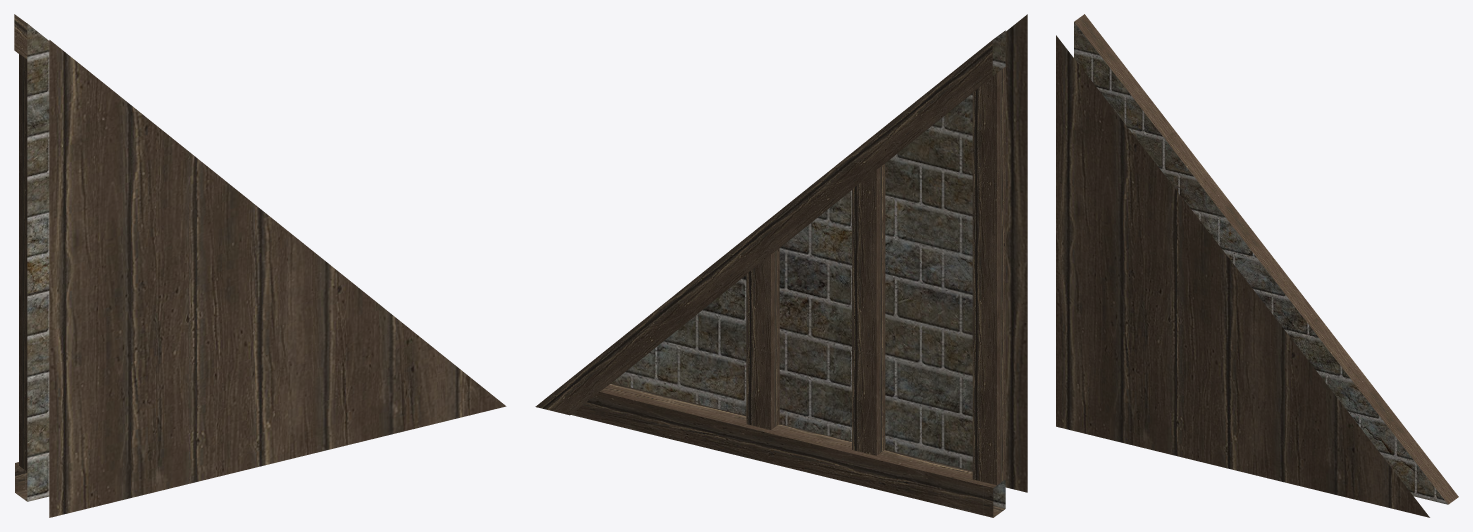
The model's file is ARC1010205.fbx.
3 views of the same model, side by side, from view 1: azimuth 30°, elevation 25°; view 2: azimuth 150°, elevation 25°; view 3: azimuth 330°, elevation 25° (orthographic). The views are drawn at different scales.
Parts seen in each view (by area): view 1: smARC1010205; view 2: smARC1010205; view 3: smARC1010205.
Part boxes in pixels (box(x1,y1,x2,y2)): smARC1010205: box(14, 14, 506, 517); smARC1010205: box(535, 14, 1027, 517); smARC1010205: box(1056, 14, 1458, 517).
Bounding box in the file's own units: 268 × 268 × 35.62.
1 material, 1 textured.
